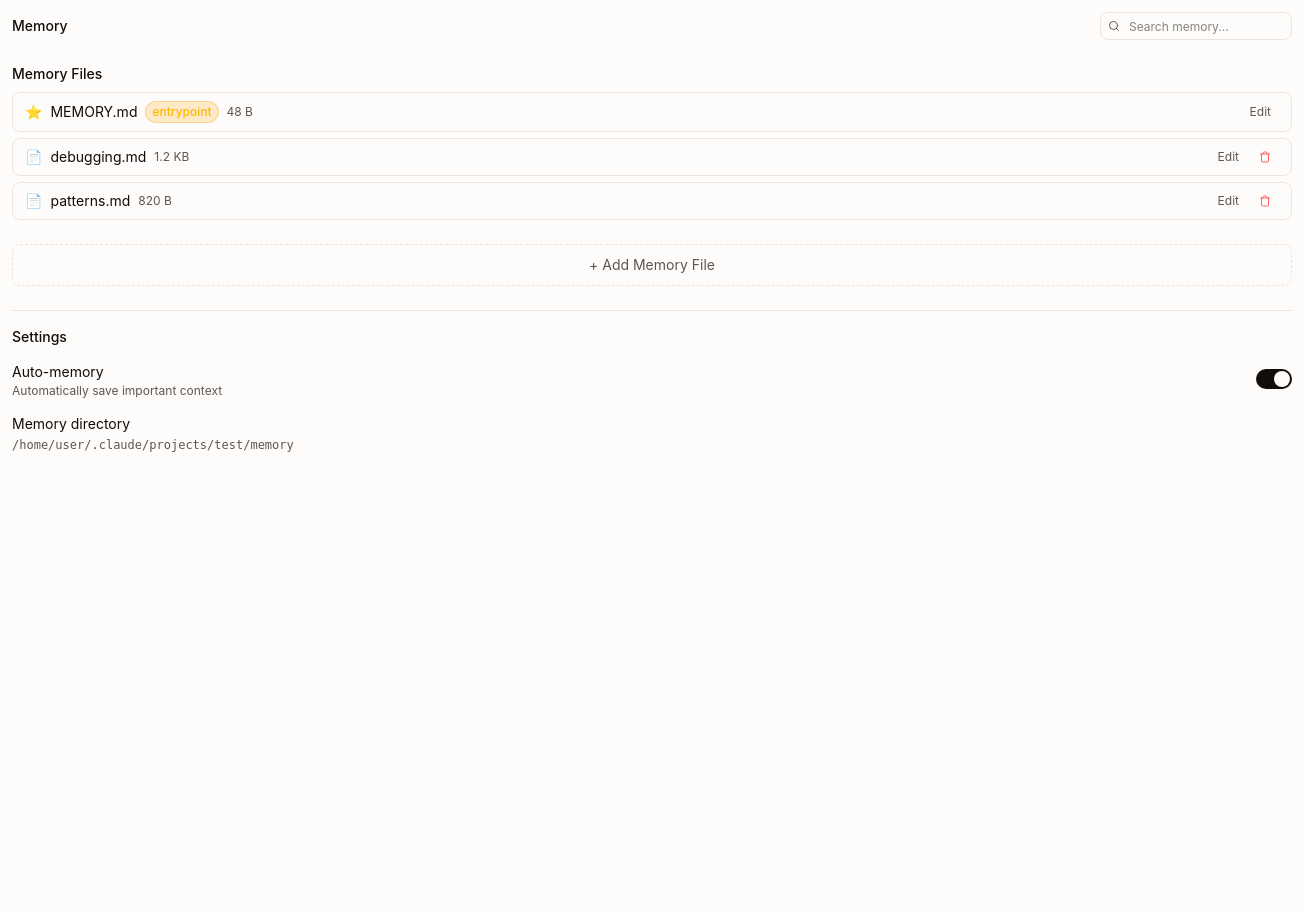
MemoryPanel › add memory opens create form
Expected: the element with test id "memory-panel" is shown, [12,12,1292,453]
What coordinates should you click on to do the following:
click the button with test id "memory-create-btn"
I would click on:
 (652, 265)
Its box is [12,244,1292,286].
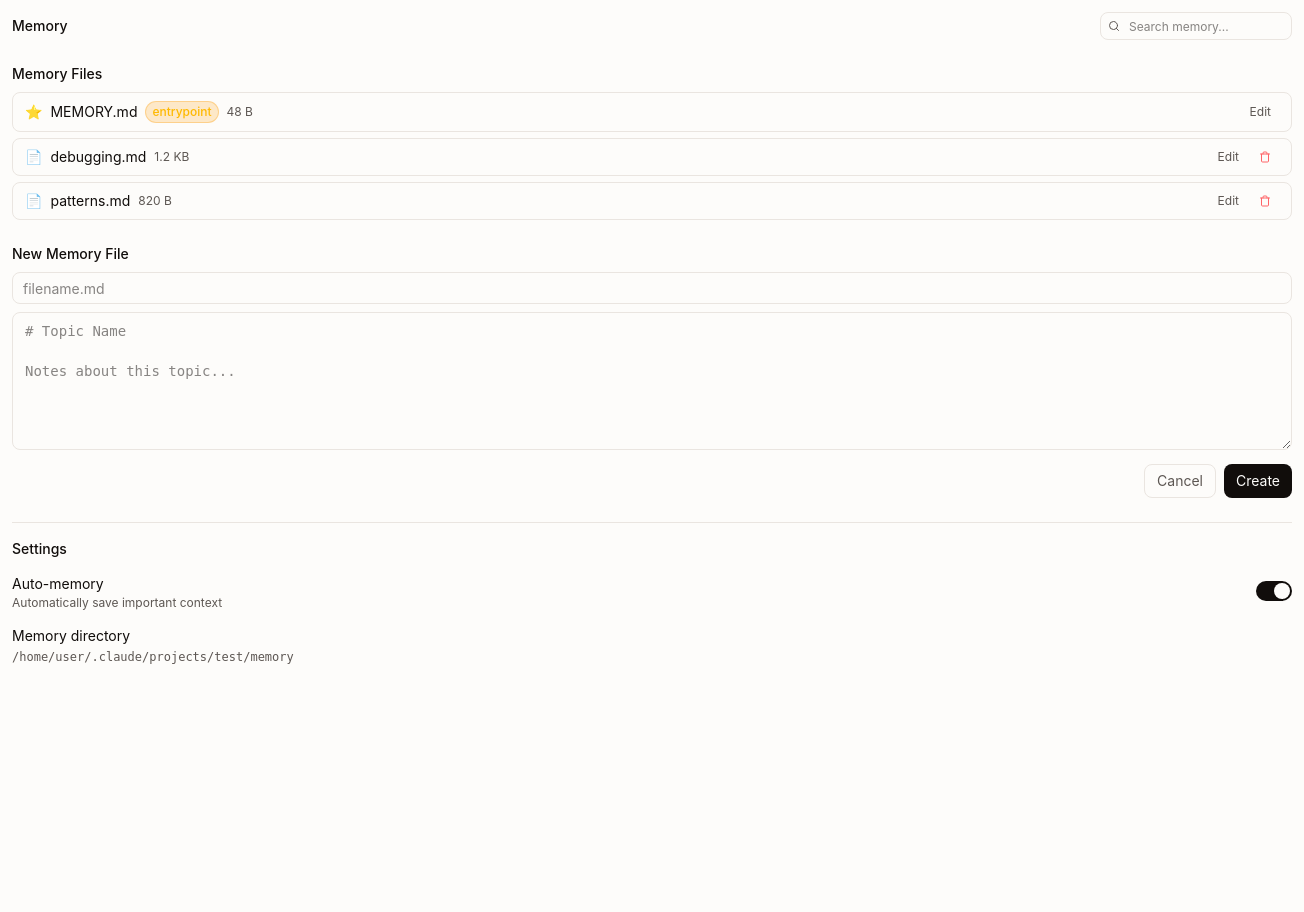
Result: the element with test id "memory-create-form" is shown at [12,244,1292,498]
Result: the field with test id "memory-create-name-input" is shown at [12,272,1292,304]
Result: the text box with test id "memory-create-textarea" is shown at [12,312,1292,450]
